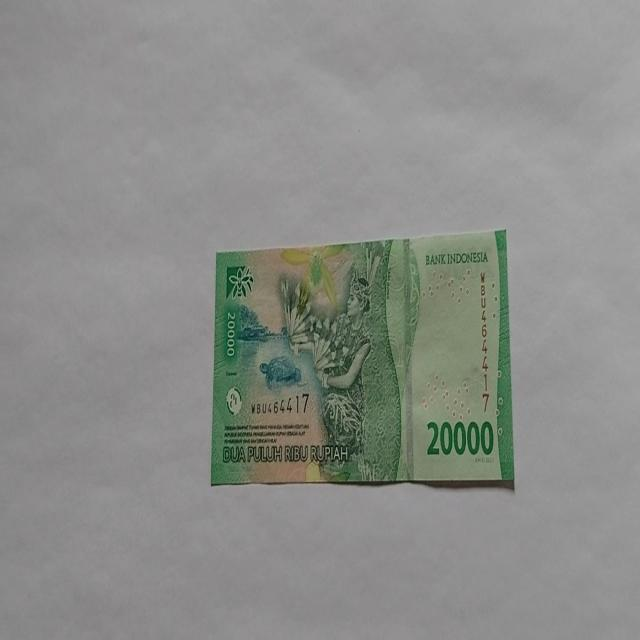dua puluh ribu rupiah: (210, 228, 514, 490), (277, 238, 418, 483)
